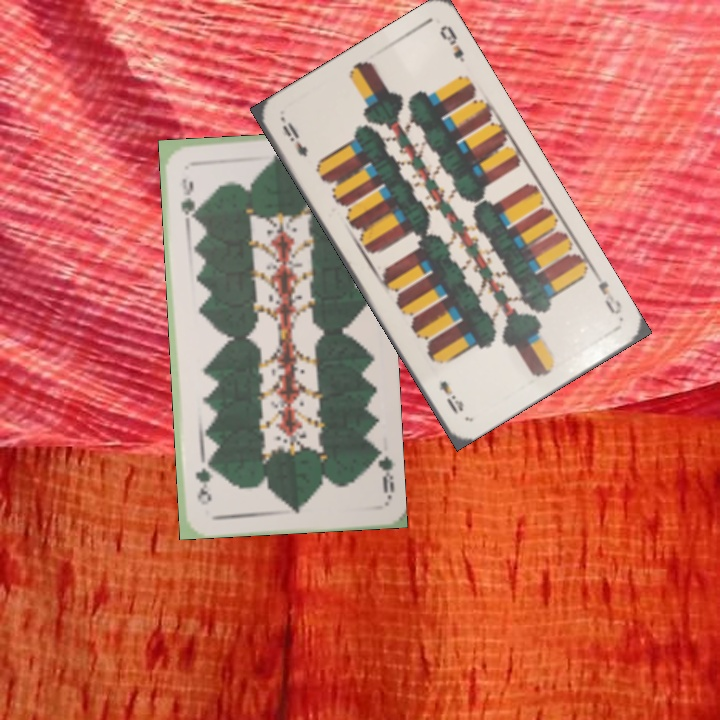E9: (589, 268, 625, 317), (278, 118, 311, 160)
G9: (368, 443, 397, 502), (176, 174, 196, 223)
